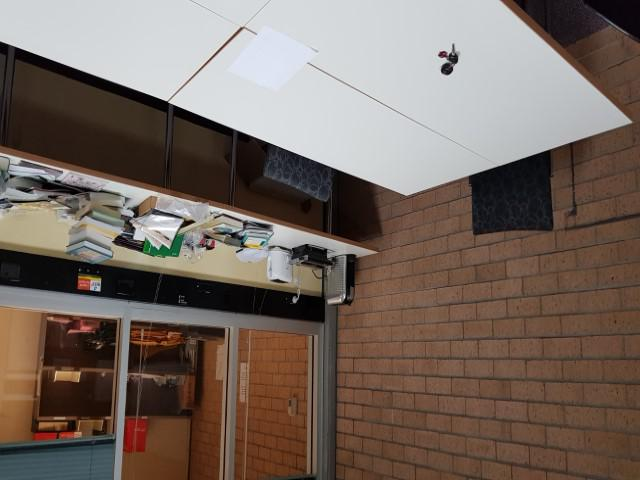key: (447, 39, 459, 65)
